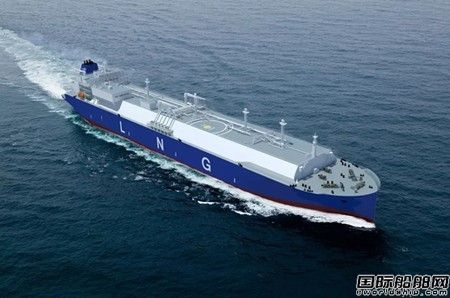Cargoship: (55, 57, 383, 233)
